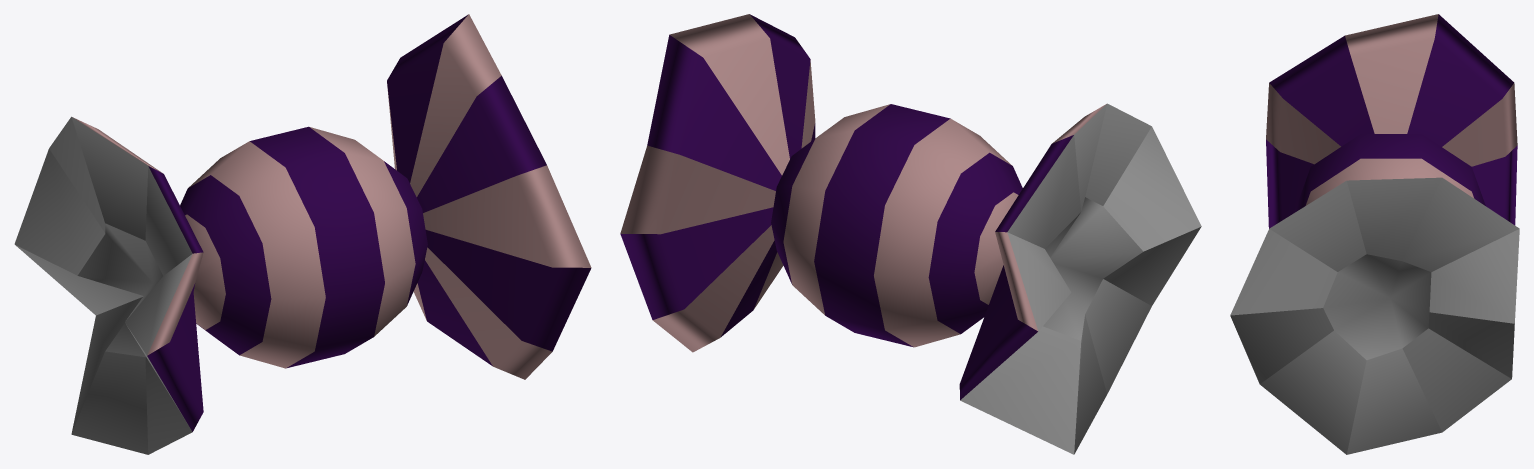
The model's file is Candy_Purple 1.fbx.
3 views of the same model, side by side, from view 1: azimuth 30°, elevation 25°; view 2: azimuth 150°, elevation 25°; view 3: azimuth 270°, elevation 25° (orthographic). The views are drawn at different scales.
Parts seen in each view (by area): view 1: pSphere1; view 2: pSphere1; view 3: pSphere1.
Boxes of the visible parts, x1,y1,x2,y2 form: pSphere1: (14, 14, 591, 454); pSphere1: (620, 14, 1201, 454); pSphere1: (1230, 14, 1519, 454).
Size of the model in its own units: 3.81 by 2.74 by 2.59.
